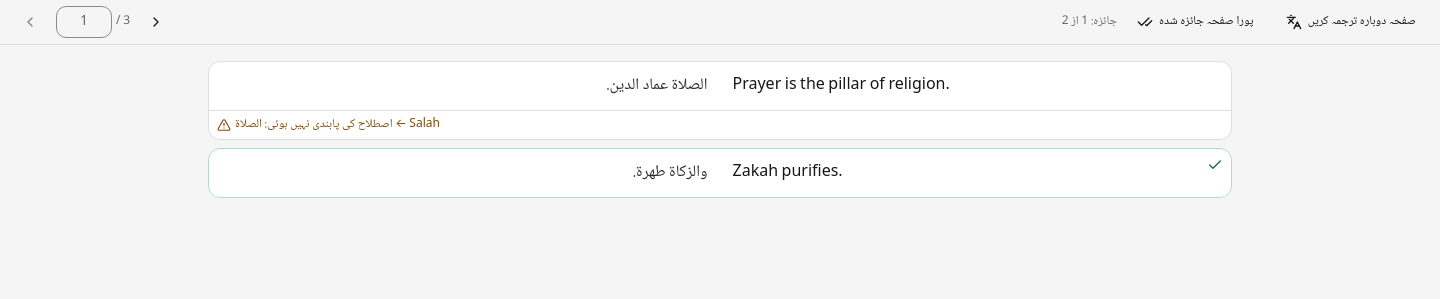
it: ReviewPane › opens a pair: highlights both halves, edits in place, marks reviewed, re-translates
Later steps or results of the test are not shown.
Click the button "الصلاة عماد الدين." at (657, 86), box x1=209 y1=62 x2=720 y2=110
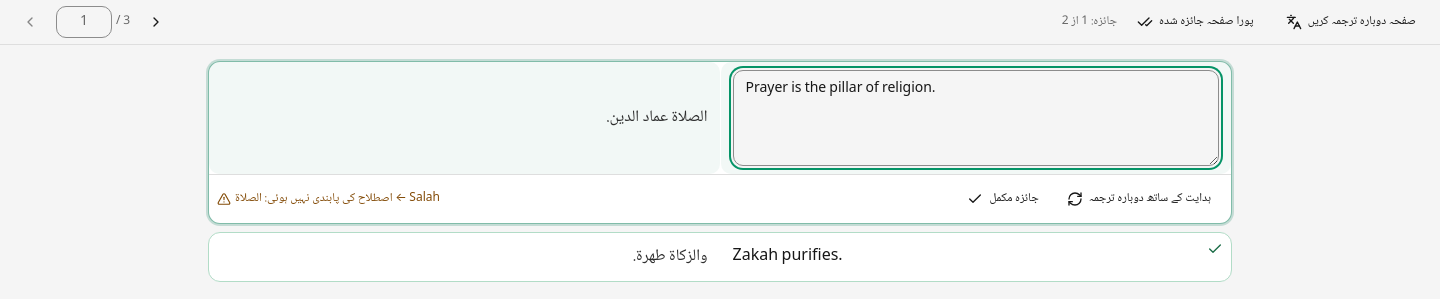
Result: the button with aria-label "پیراگراف 1 — اصل" is pressed at x1=209 y1=62 x2=720 y2=174
